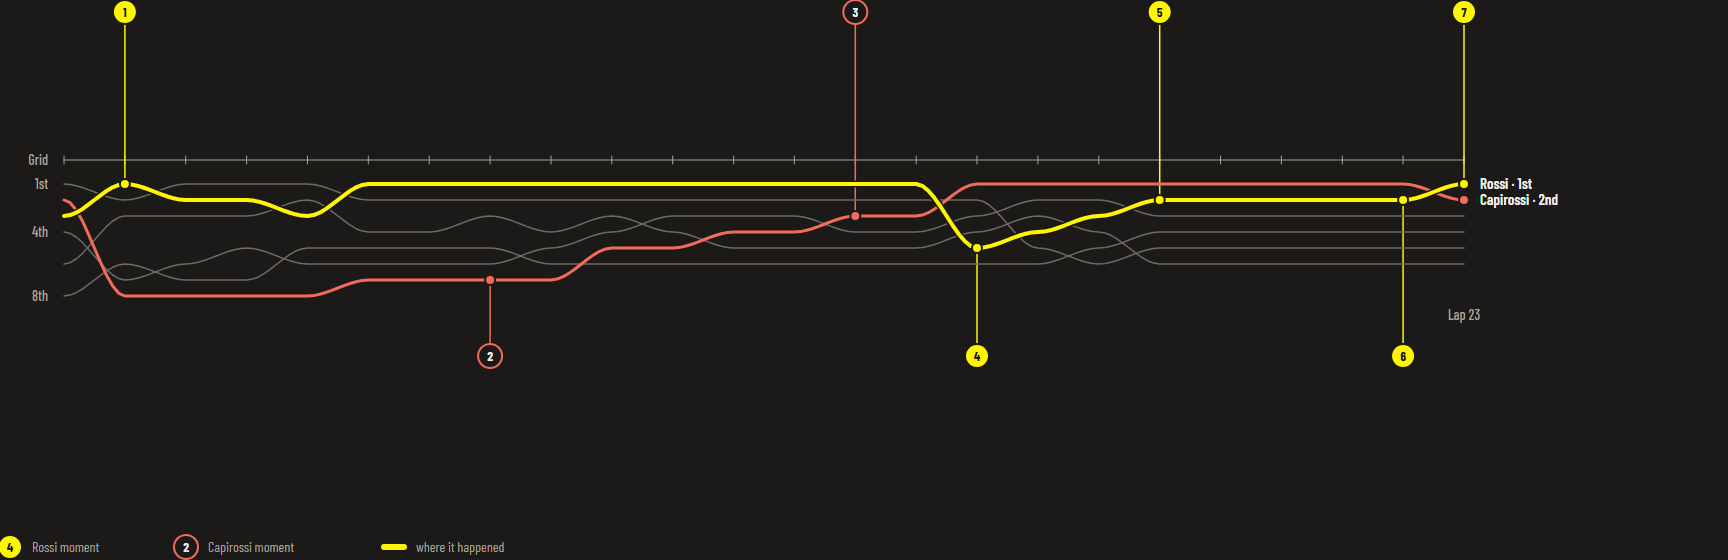

Layout of this report page (visuals, bound fields, positions):
{"tool":"tableau","page":{"name":"Dashboard 1","canvas":[1500,1100],"ordinal":0},"visuals":[{"type":"worksheet","title":"Sheet 3","mark":"Automatic","box":[8,8,1484,1084]}]}

Visuals, with their boxes on the page's 1500x1100 design canvas (x1, y1, x2, y2). These are canvas units, not pixel positions in the 1728x560 screenshot, which may show the page scaled, cropped or inside an application window:
"Sheet 3" worksheet: 8,8,1492,1092
